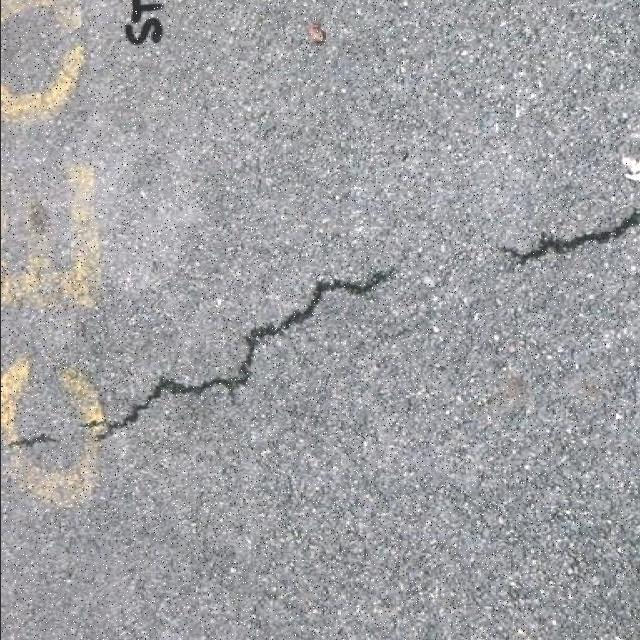crack: (0, 210, 640, 416), (398, 412, 640, 635), (219, 498, 399, 638), (5, 488, 173, 636), (178, 117, 347, 230), (217, 0, 382, 100), (519, 45, 640, 151), (14, 384, 206, 448), (502, 205, 637, 264), (58, 161, 104, 311), (328, 270, 399, 297), (4, 434, 58, 451)
dampens: (226, 343, 262, 385), (249, 318, 287, 342), (304, 283, 326, 308)
